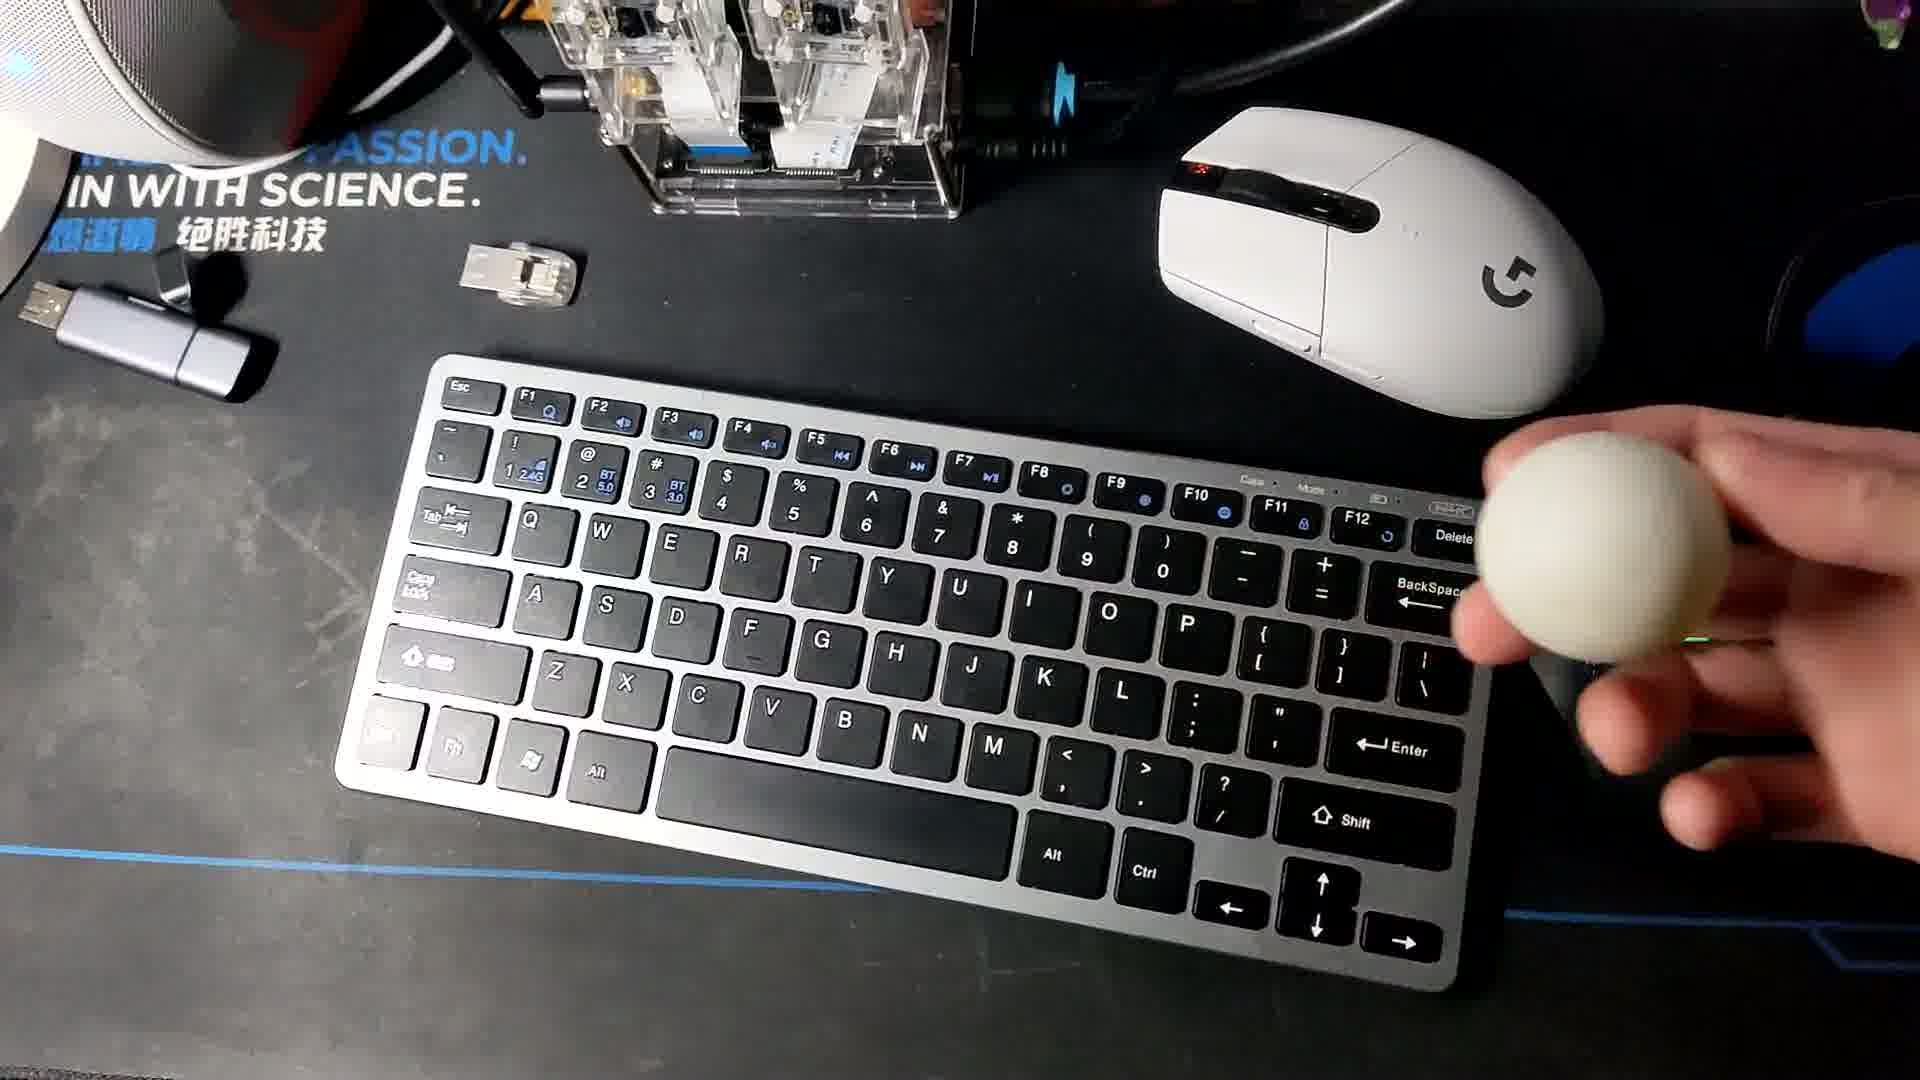Ball: (1466, 429, 1731, 658)
